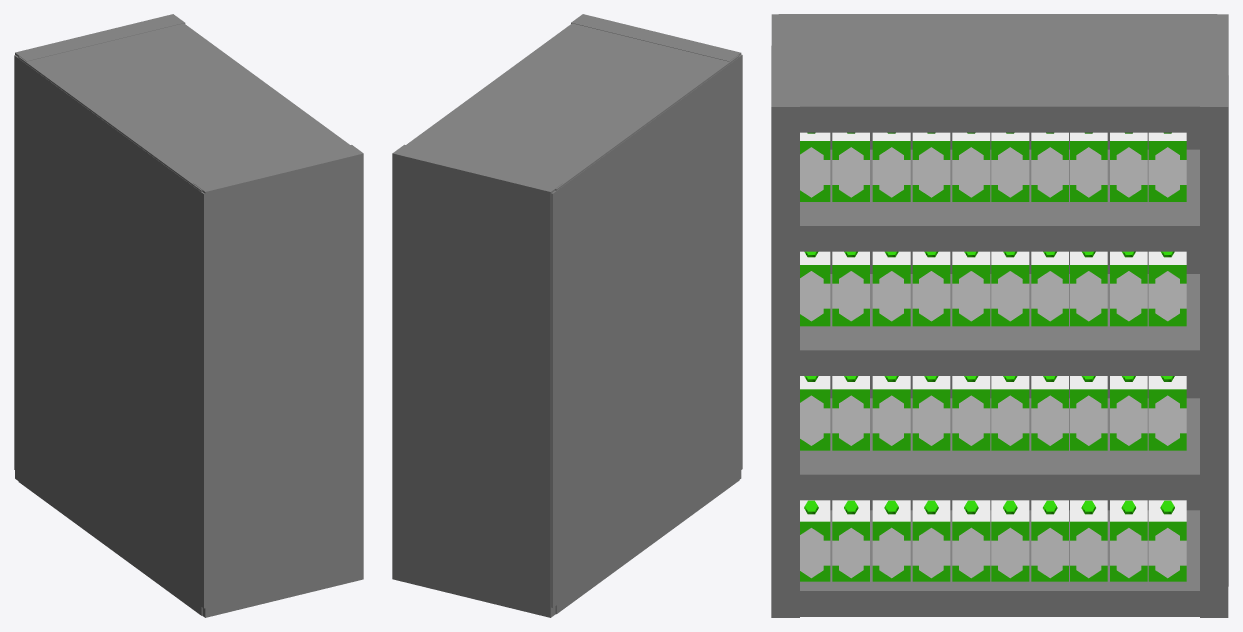
The model's file is low_fat_milk_shelf.gltf.
3 views of the same model, side by side, from view 1: azimuth 30°, elevation 25°; view 2: azimuth 150°, elevation 25°; view 3: azimuth 270°, elevation 25° (orthographic). The views are drawn at different scales.
Parts seen in each view (by area): view 1: Cube.021; view 2: Cube.021; view 3: Cube.021.
Boxes of the visible parts, bbox=[...] form: Cube.021: bbox=[14, 14, 363, 617]; Cube.021: bbox=[392, 14, 742, 617]; Cube.021: bbox=[771, 14, 1228, 617].
Size of the model in its own units: 4.03 by 10.28 by 8.34.
